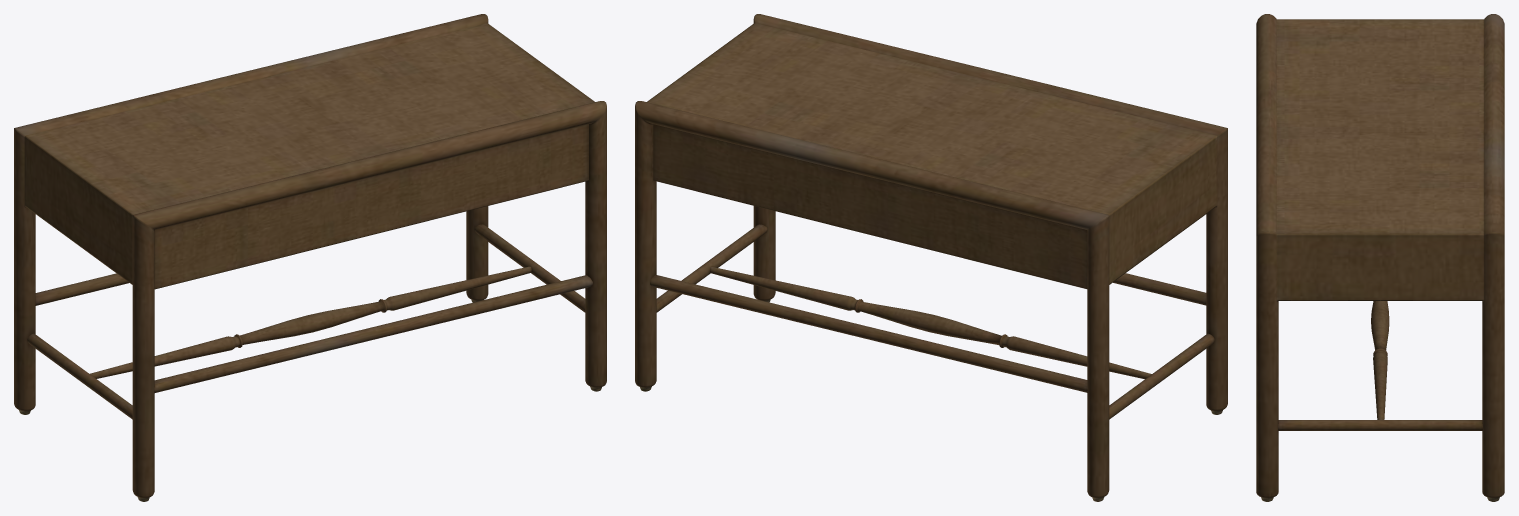
The model's file is small_wooden_table_01_lite.gltf.
3 renders of one model, left to right at view 1: azimuth 30°, elevation 25°; view 2: azimuth 150°, elevation 25°; view 3: azimuth 270°, elevation 25°, orthographic. The views are drawn at different scales.
Visible parts, largest first — view 1: small_wooden_table_01; view 2: small_wooden_table_01; view 3: small_wooden_table_01.
Boxes of the visible parts, x1=… form: small_wooden_table_01: x1=14, y1=14, x2=606, y2=501; small_wooden_table_01: x1=635, y1=14, x2=1227, y2=501; small_wooden_table_01: x1=1256, y1=14, x2=1504, y2=501.
Size of the model in its own units: 0.9162 by 0.5331 by 0.44.
Materials: 1 (1 with a texture image).
